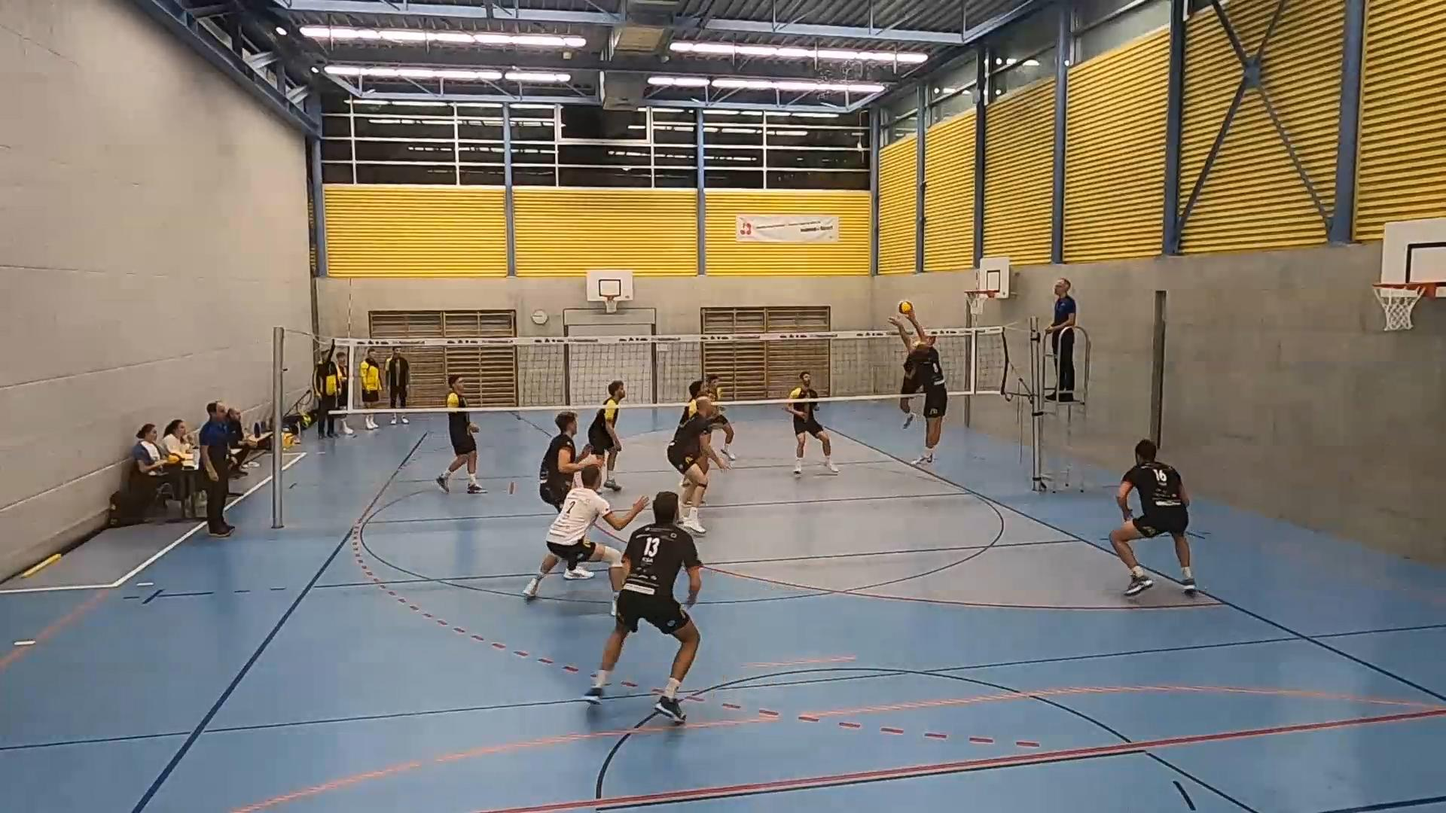attacco: (889, 311, 939, 432)
muro: (886, 310, 952, 470)
